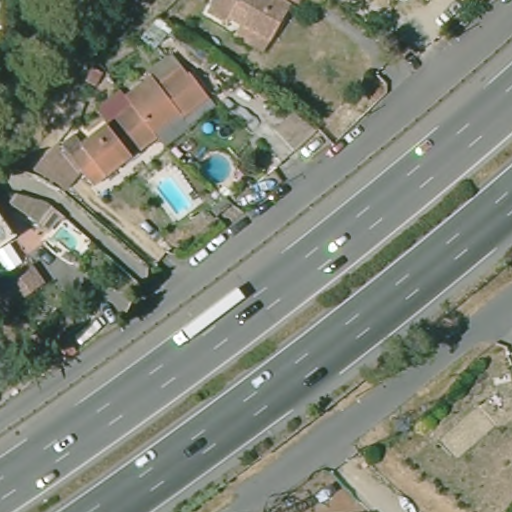pool: (153, 172, 198, 218), (193, 145, 241, 188), (48, 226, 88, 260)
